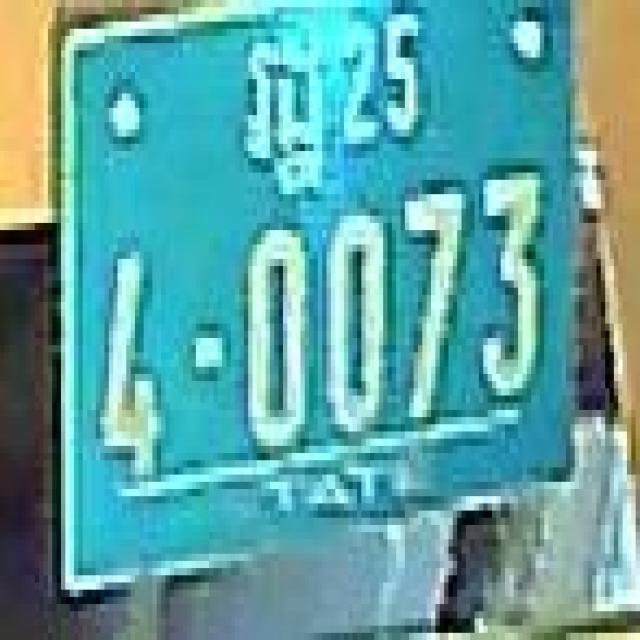State: (244, 29, 326, 200)
